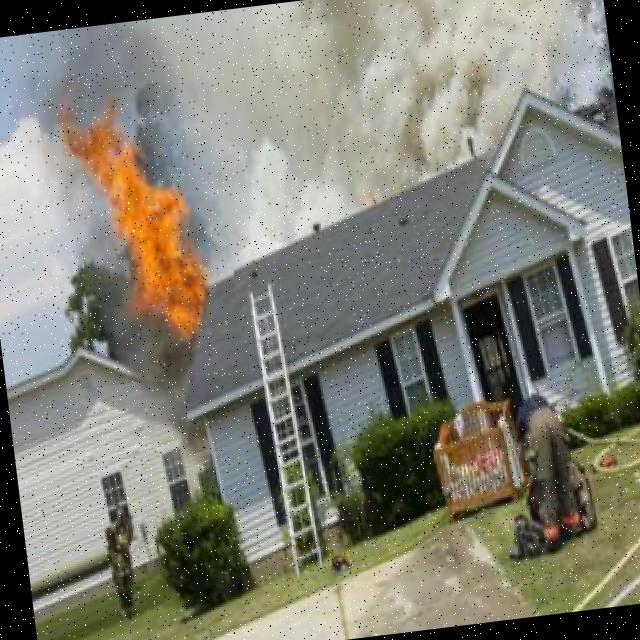fire: (36, 78, 245, 390)
